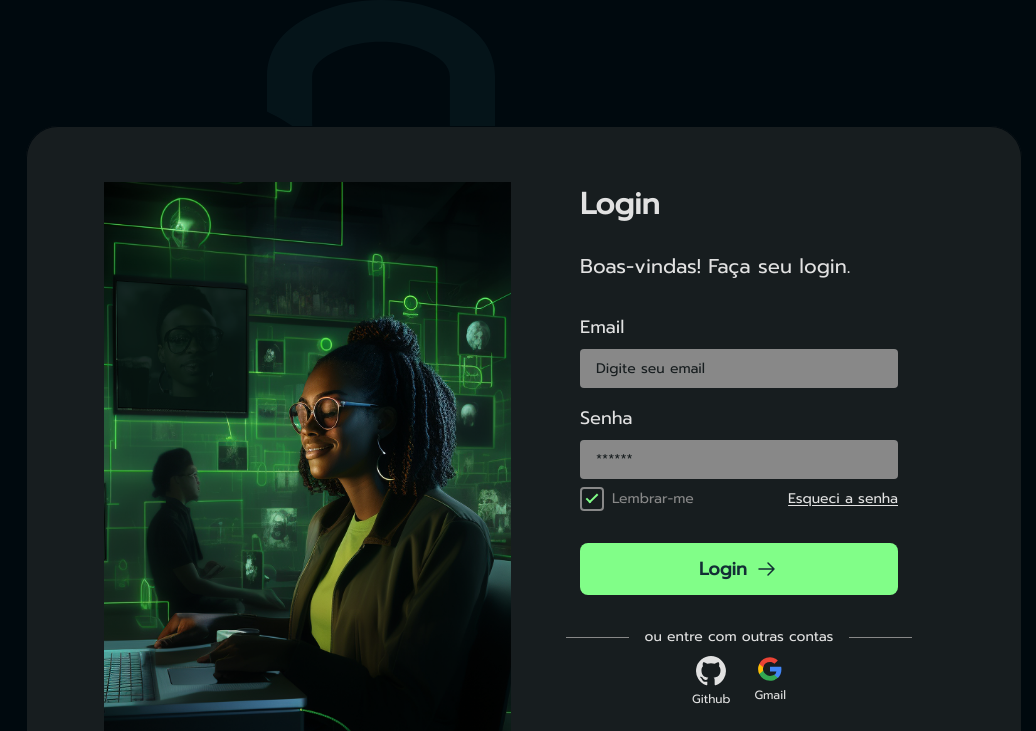
Test: reports invalid credentials accessibly
The image size is (1036, 731).
Type "ana@example.com" into the field labelled "Email" at (739, 369), box [580, 349, 898, 388]
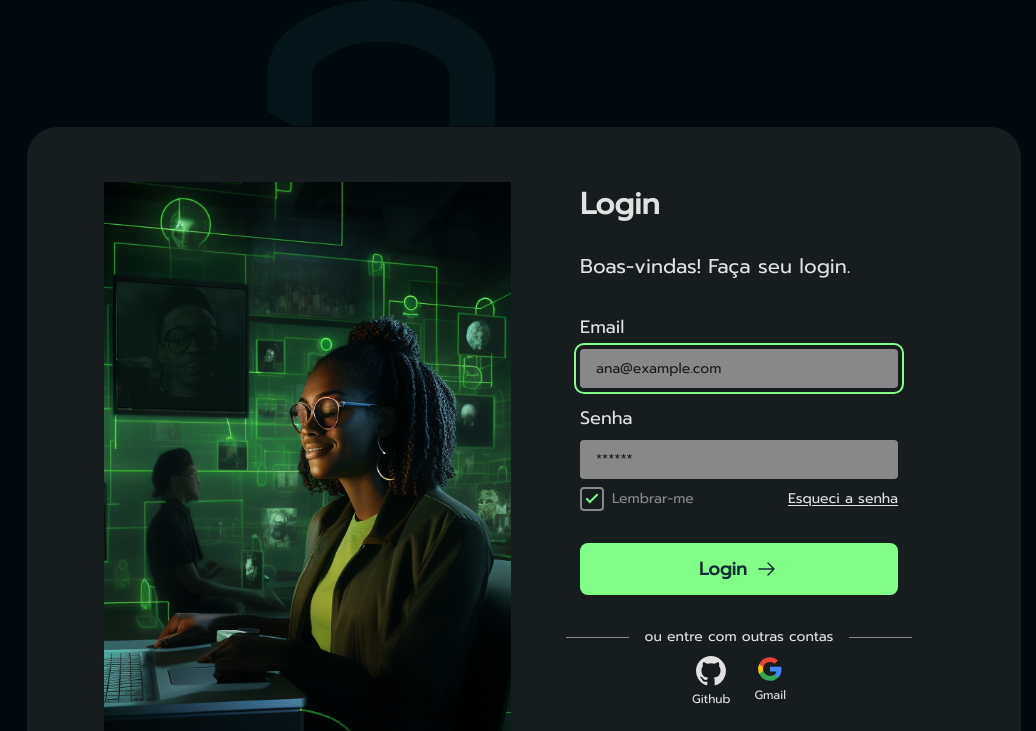
Type "segredo123" into the password field labelled "Senha" at (739, 460), box [580, 440, 898, 479]
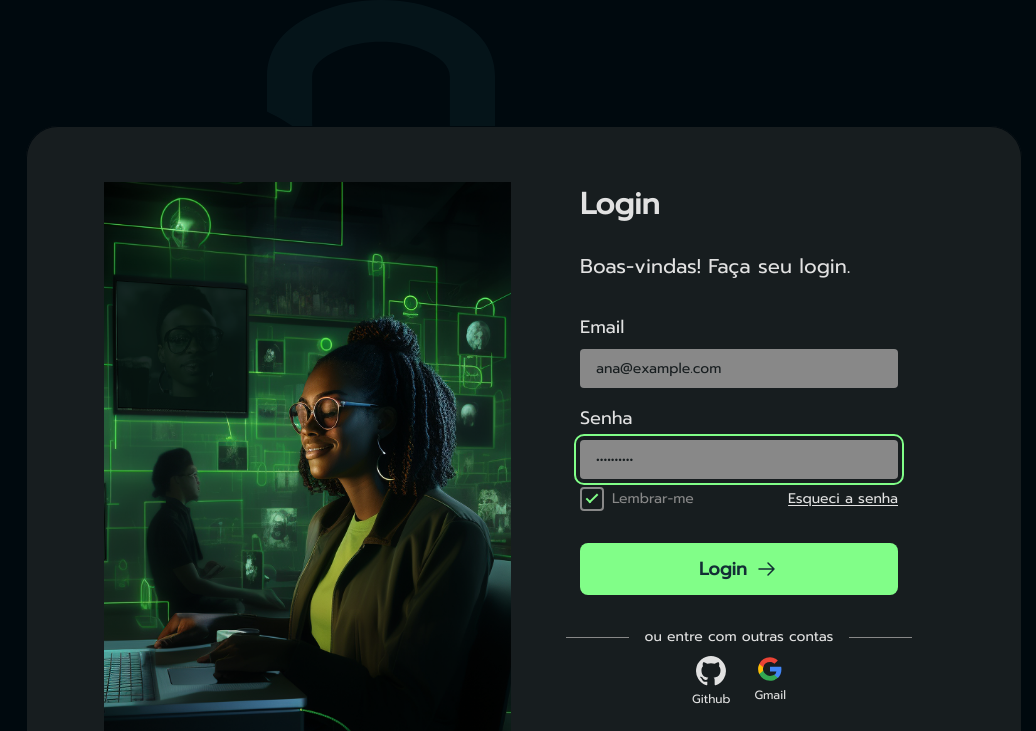
Click the button "Login" at (739, 569), box [580, 543, 898, 595]
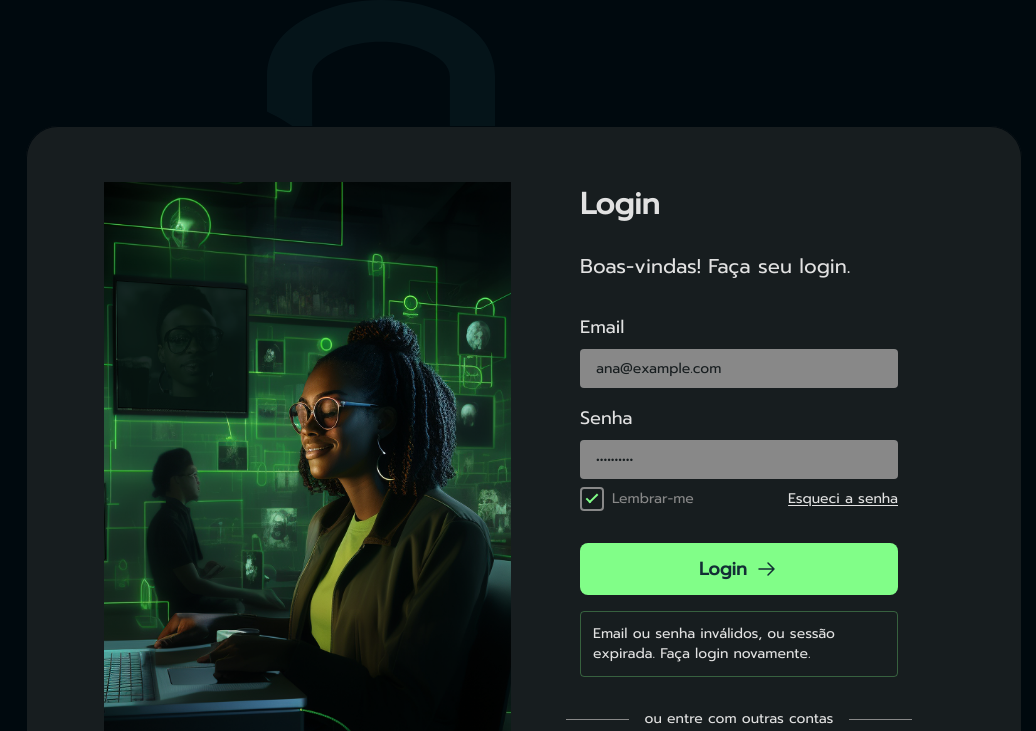
Expected: the message shows "Email ou senha inválidos", [593, 623, 835, 664]
